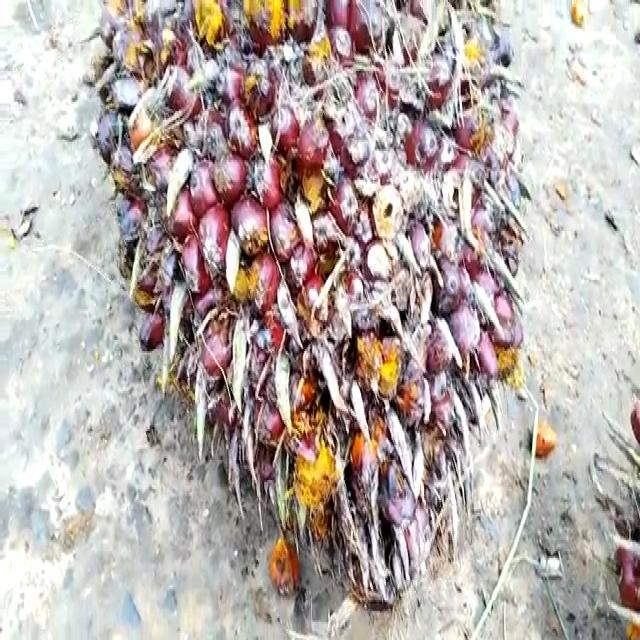palm oil: (93, 0, 539, 625)
